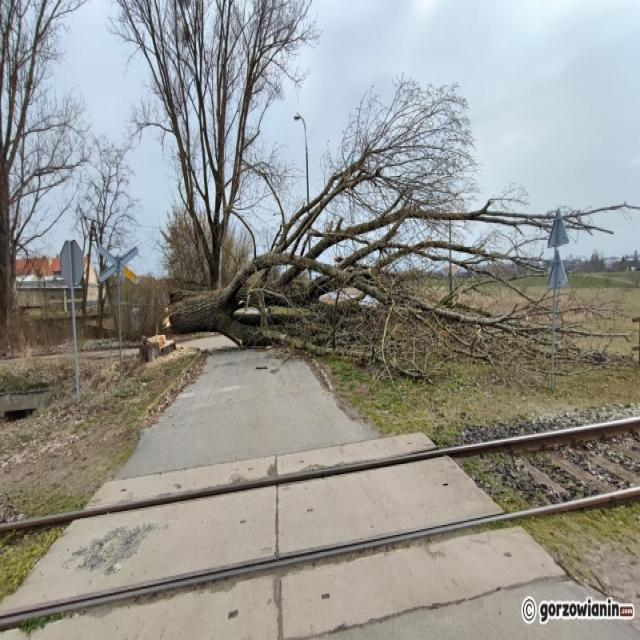fallen_tree: (167, 247, 335, 346)
